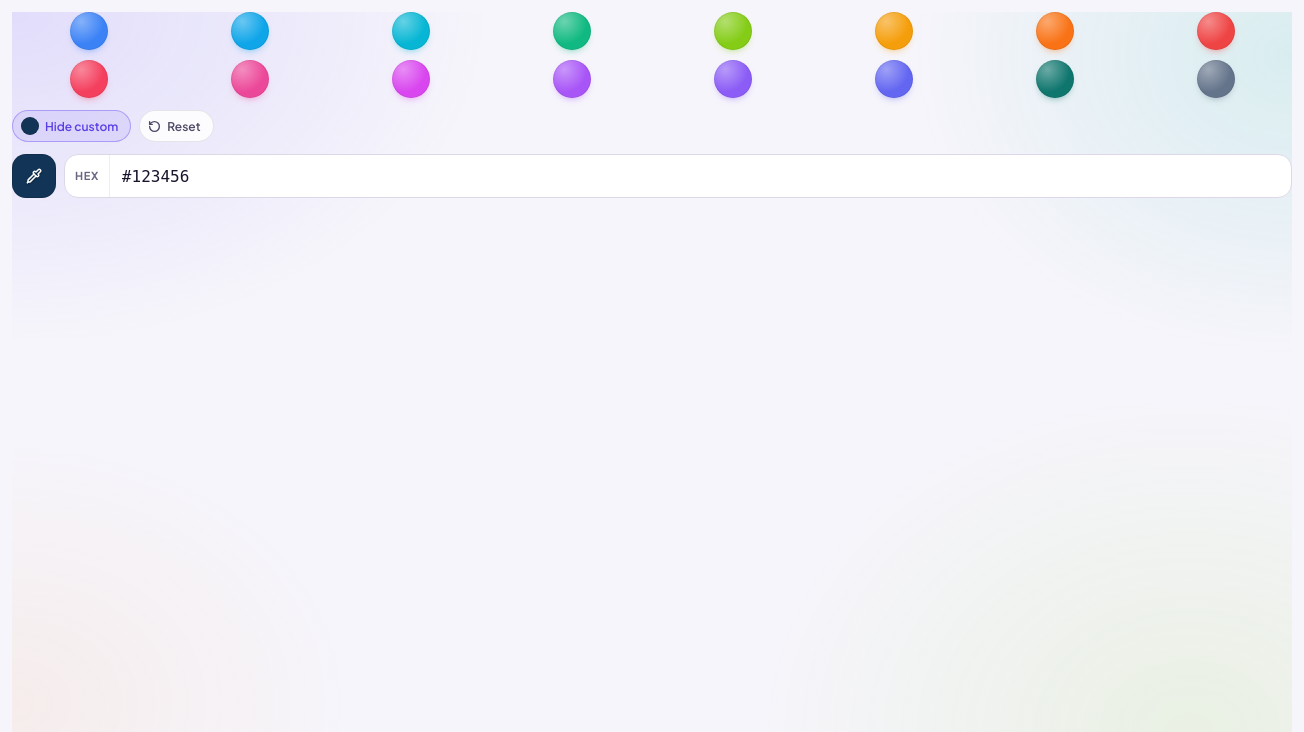
ColorPicker › reset to default › restores the default color and notifies the parent
Click the button "Reset" at (176, 126), box left=139, top=110, right=214, bottom=142
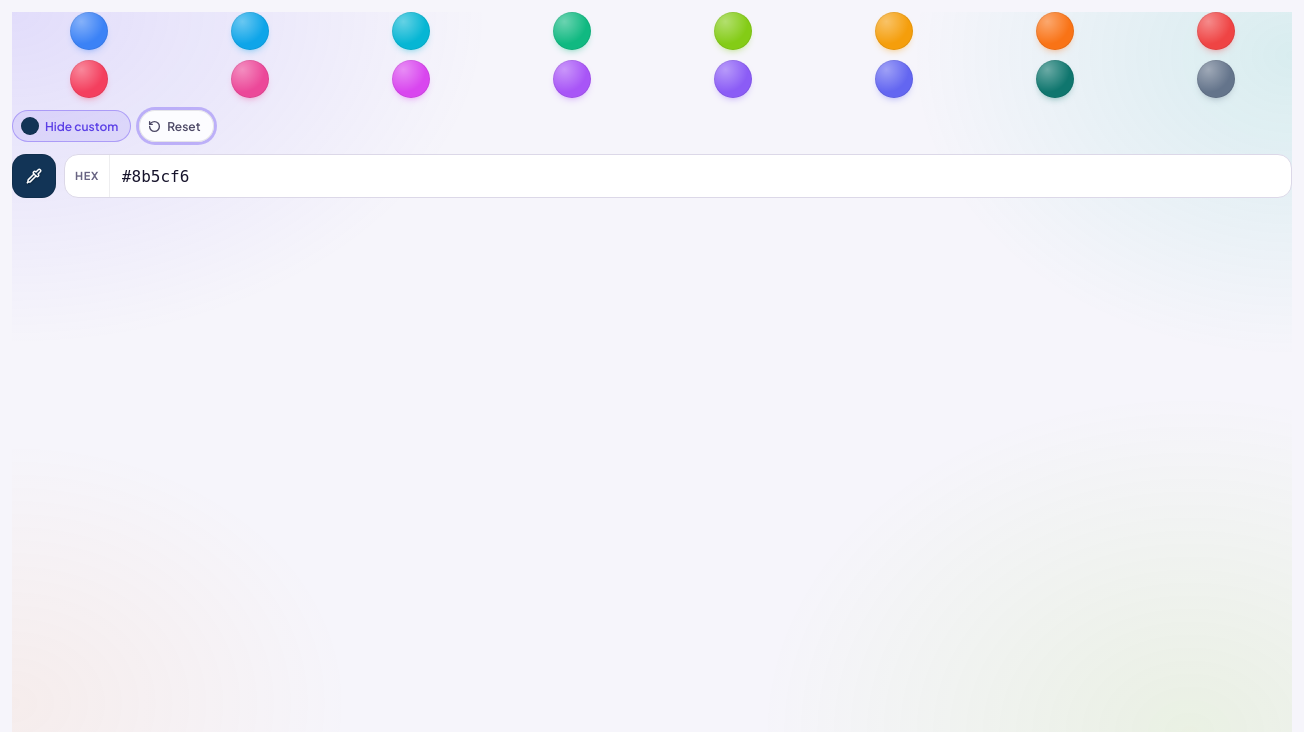
Expected: the field named "Hex color code" holds "#8b5cf6", left=110, top=155, right=1291, bottom=197
